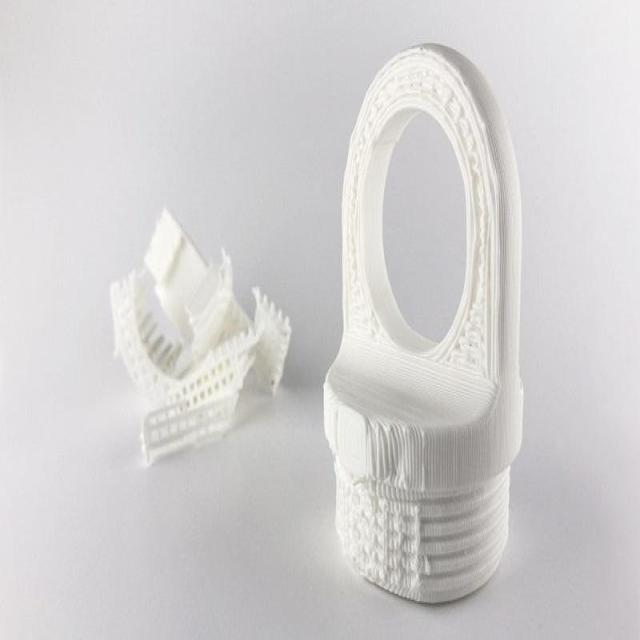Without deffect: (318, 49, 530, 606)
